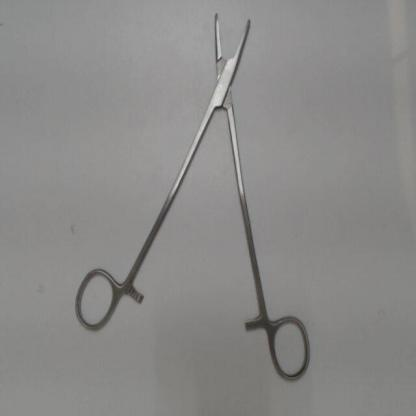8 Mayo Needle Holder: (67, 4, 317, 389)
